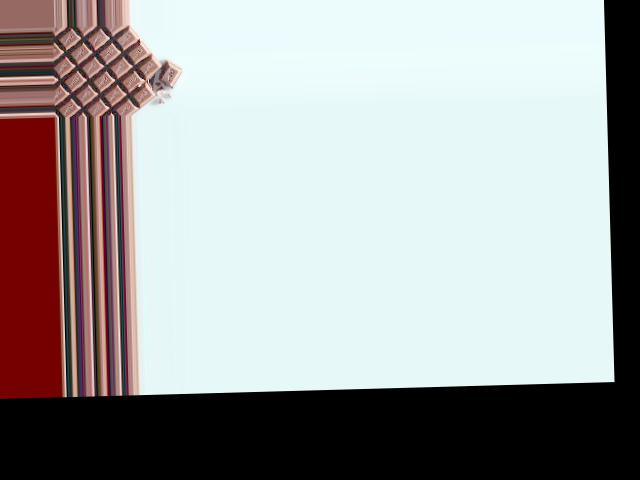chocolate: (51, 27, 170, 116)
